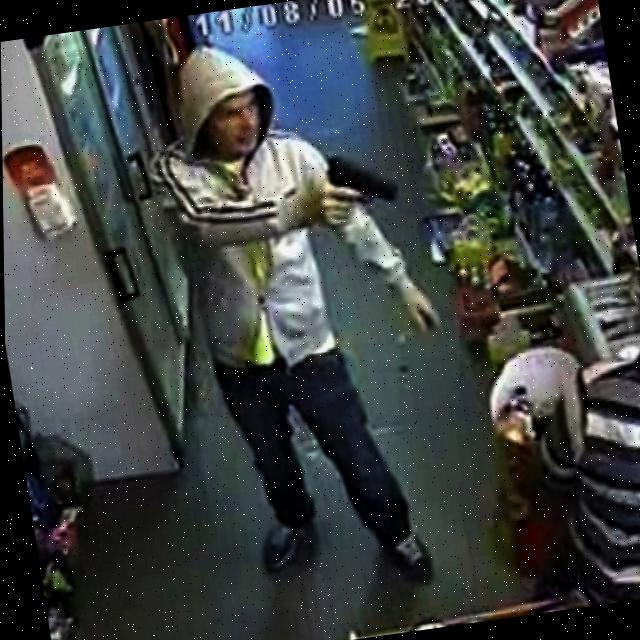pistol: (321, 145, 401, 212)
